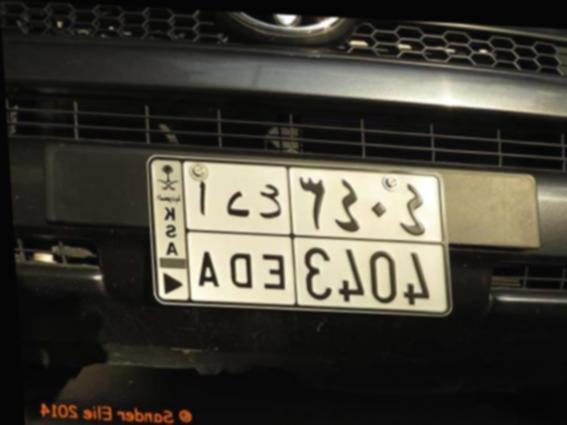License_Plate: (138, 149, 459, 325)
